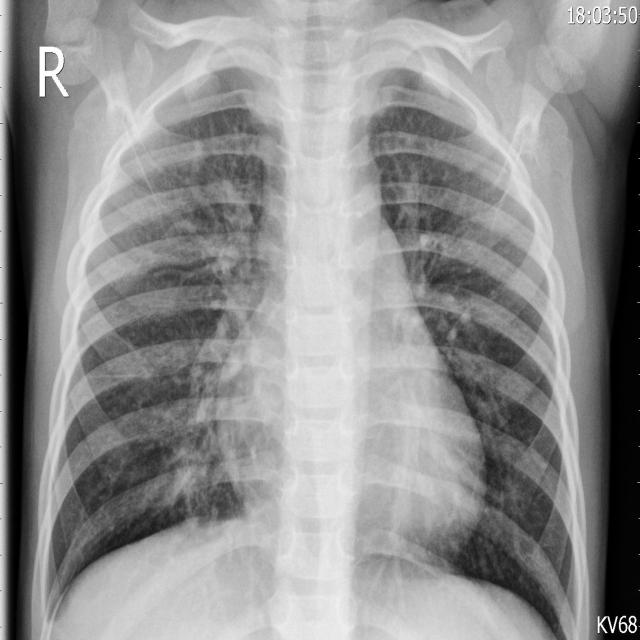low-pneumonia: (170, 172, 273, 421)
